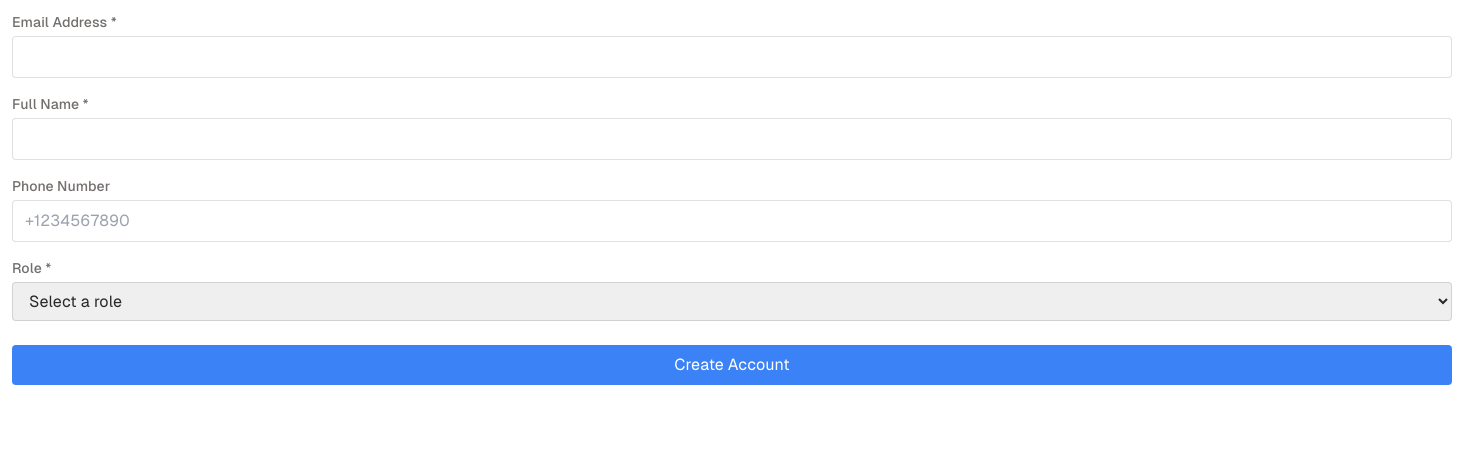
Test: CreateAccountForm › Form Validation › shows validation error when required fields are empty
This screenshot has width=1464, height=474.
Note: Submit form without filling fields
Click the button "Create Account". click: (732, 365)
box: top-left (12, 345), bottom-right (1452, 385)
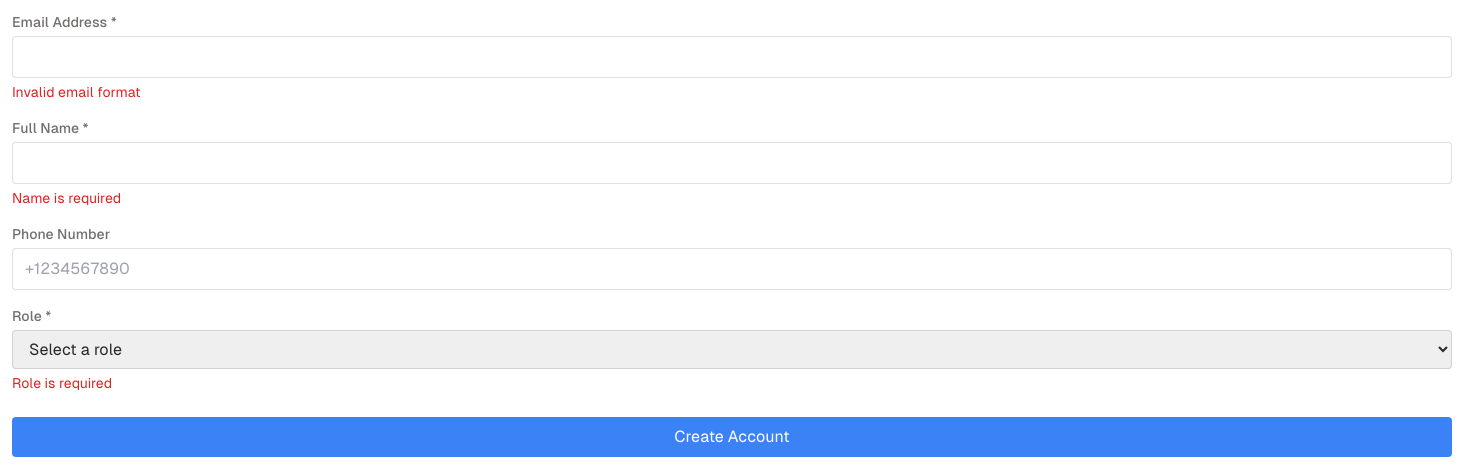
Expected: the message "Invalid email format" is shown, top-left (12, 84), bottom-right (141, 100)
